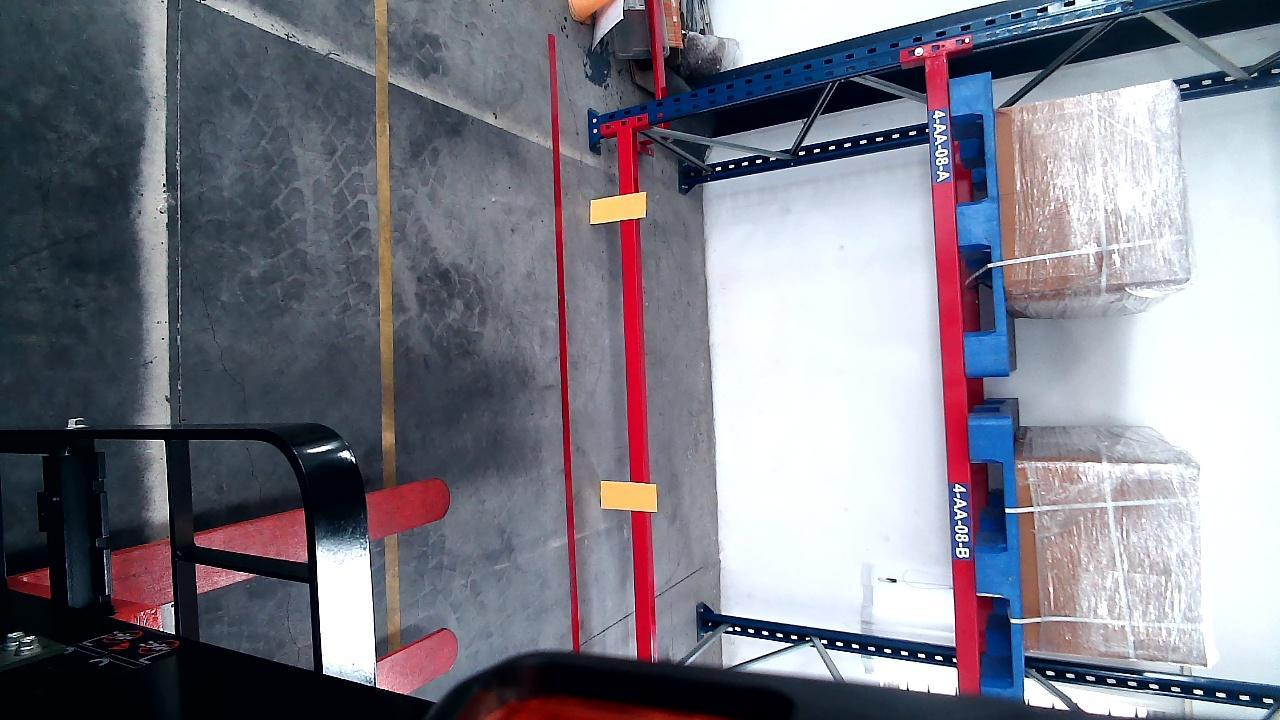red_line: (545, 35, 580, 654)
yellow_line: (374, 2, 405, 642)
